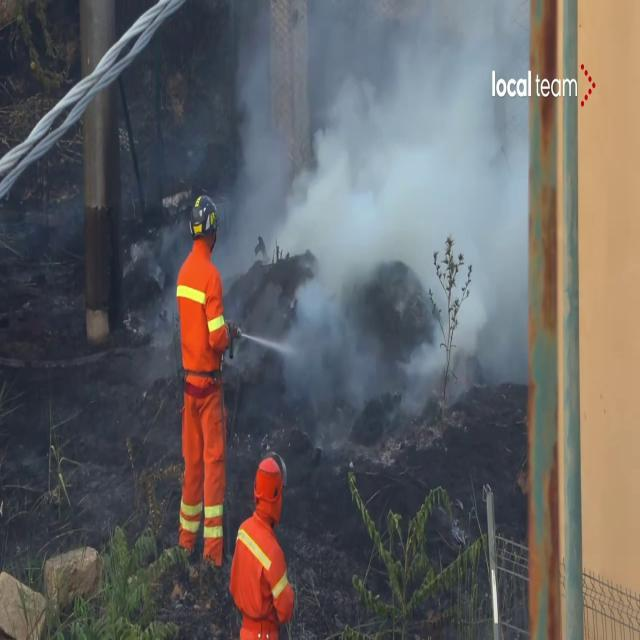Smoke: (219, 0, 528, 396)
